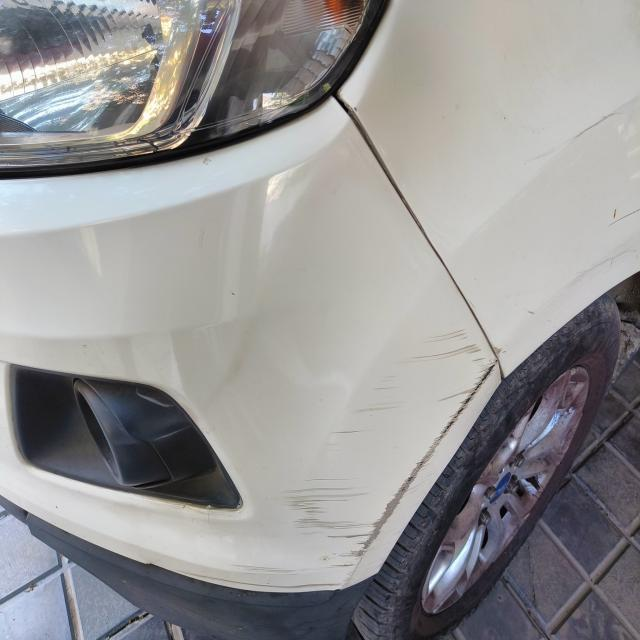scratch: (276, 327, 501, 593), (528, 103, 626, 171), (560, 242, 640, 288), (590, 198, 640, 235)
